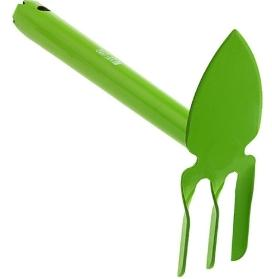HOUE: (0, 0, 269, 279)
